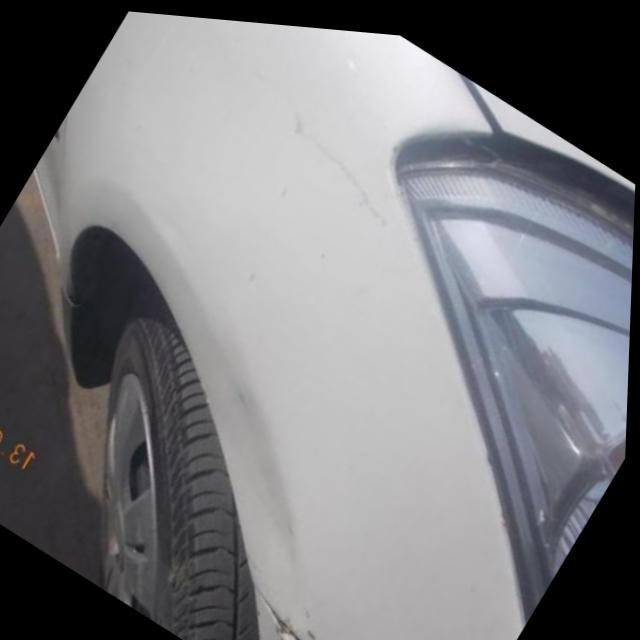crack: (280, 100, 396, 227)
rub: (279, 603, 325, 640)
